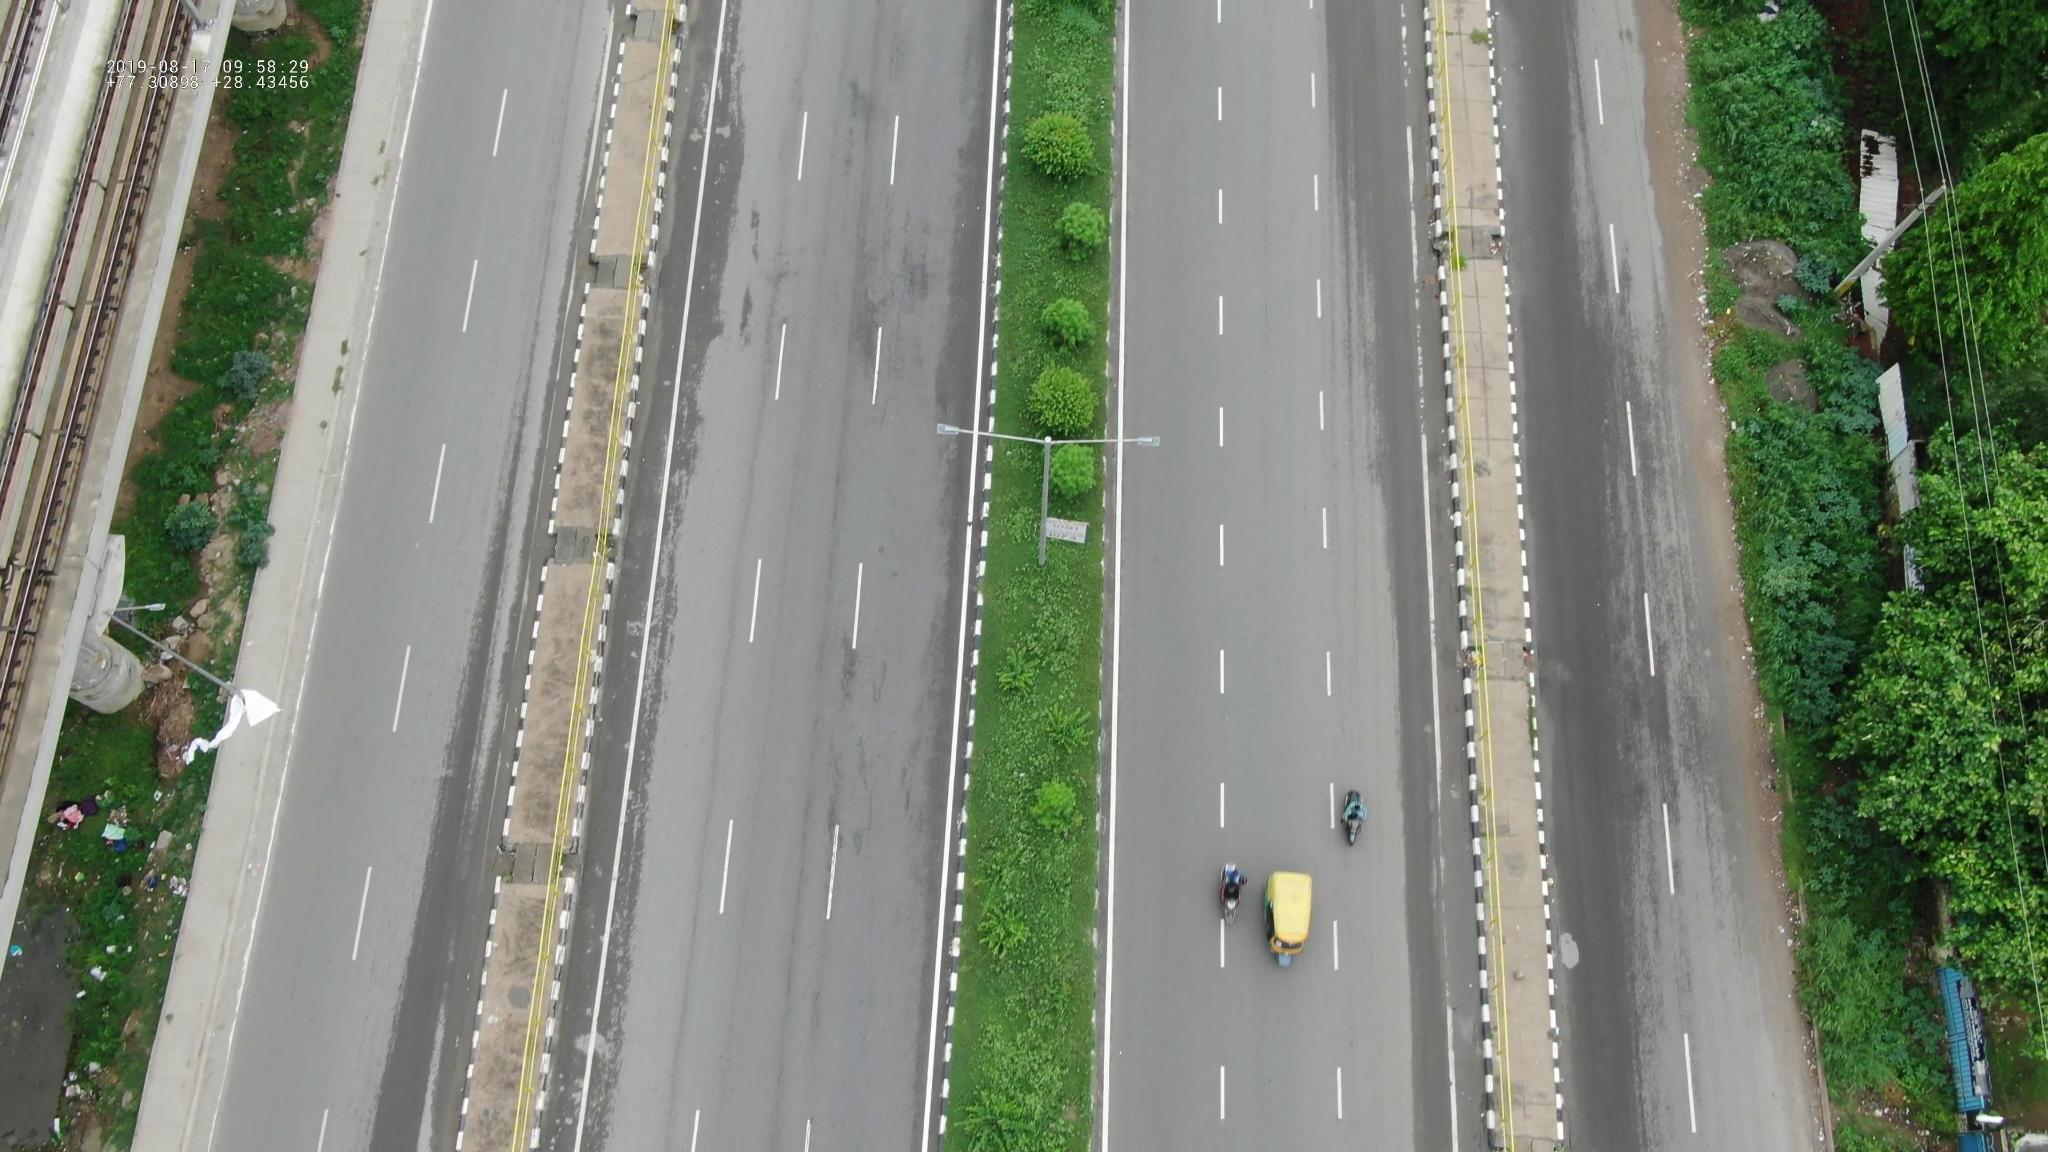Cracks: (830, 184, 934, 394)
